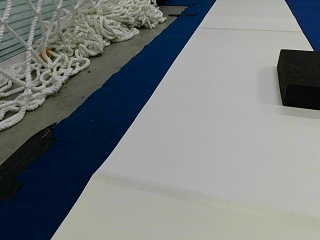block: (275, 48, 319, 109)
